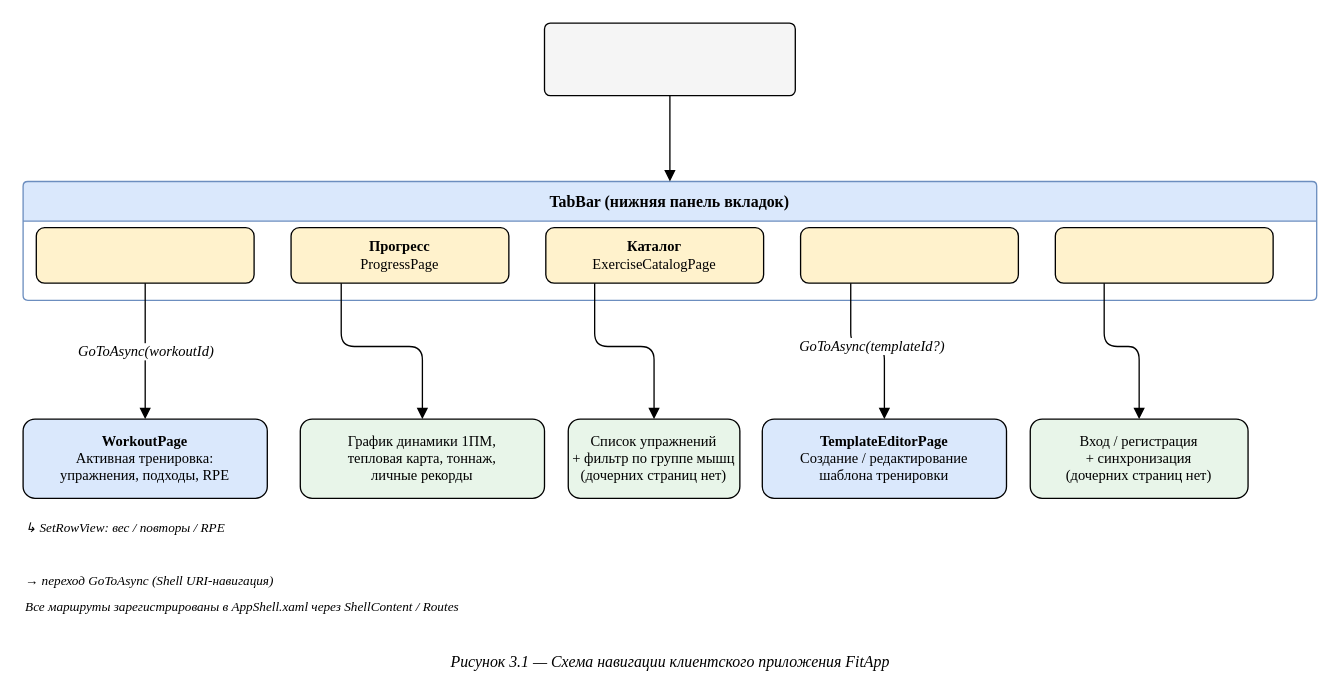
Image size: 1340x698. Some labels were removed from this diagram. The shapes that lost their labels are listed below. From the top down, each one's centre as x and y in pixels, then its label:
At [669,59]: "AppShell Shell навигация".
At [144,254]: "Дневник WorkoutListPage".
At [908,254]: "Шаблоны TemplatesPage".
At [1163,254]: "Аккаунт AccountPage".
